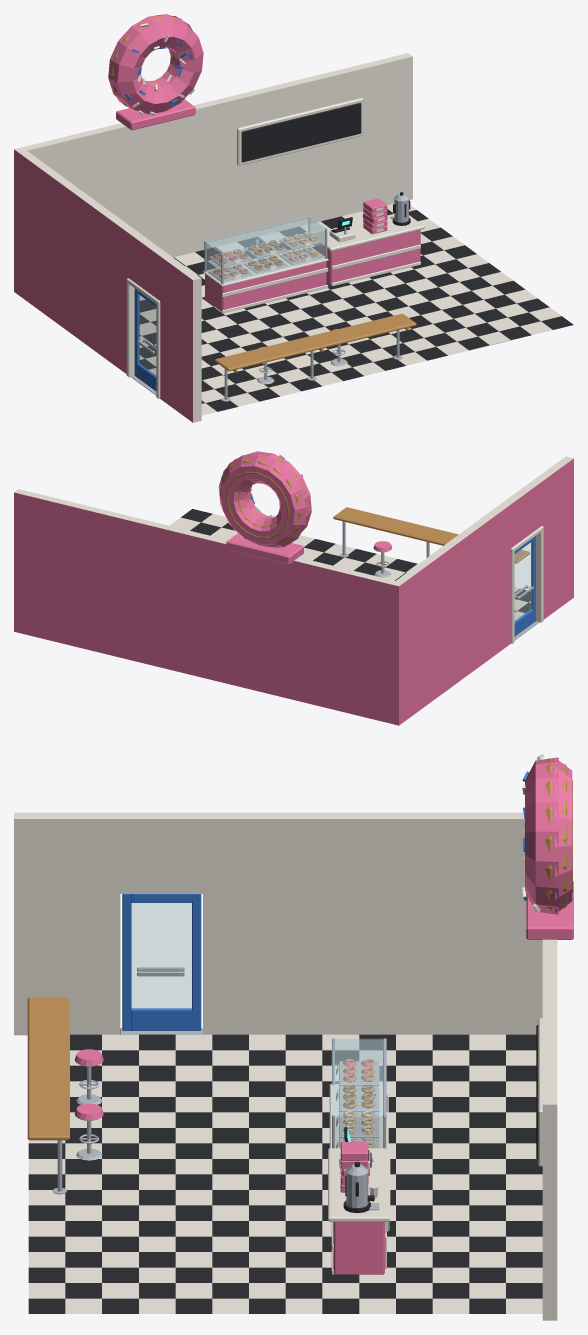
Rendered from low-poly-donut-shop.glb.
3 views of the same model, one above another, from view 1: azimuth 30°, elevation 25°; view 2: azimuth 150°, elevation 25°; view 3: azimuth 270°, elevation 25° (orthographic). The views are drawn at different scales.
Parts seen in each view (by area): view 1: Walls, Floor, Donut_Sign, Counter_Body, Case_Glass, Case_Body, WindowCounter_Top, Door, Donuts, Trays, CaseDoor_L, CaseDoor_R; view 2: Walls, Donut_Sign, Floor, WindowCounter_Top, Door, Stool_2_Mesh; view 3: Floor, Walls, Door, Donut_Sign, Counter_Body, WindowCounter_Top, Case_Glass, Trays, Donuts, Case_Body, Stool_2_Mesh, Stool_1_Mesh.
Boxes of the visible parts, x1,y1,x2,y2 form: Walls: [14, 53, 412, 422]; Floor: [131, 203, 573, 415]; Donut_Sign: [108, 14, 203, 130]; Counter_Body: [313, 192, 424, 286]; Case_Glass: [206, 217, 326, 283]; Case_Body: [203, 215, 328, 313]; WindowCounter_Top: [215, 313, 416, 401]; Door: [134, 288, 156, 391]; Donuts: [213, 232, 318, 278]; Trays: [208, 234, 322, 281]; CaseDoor_L: [207, 230, 259, 270]; CaseDoor_R: [257, 218, 307, 244]; Walls: [14, 456, 573, 725]; Donut_Sign: [218, 451, 311, 564]; Floor: [169, 509, 539, 640]; WindowCounter_Top: [333, 507, 530, 597]; Door: [514, 536, 535, 636]; Stool_2_Mesh: [373, 541, 391, 577]; Floor: [28, 1028, 542, 1313]; Walls: [14, 812, 557, 1320]; Door: [122, 894, 201, 1030]; Donut_Sign: [522, 754, 573, 939]; Counter_Body: [328, 1127, 390, 1274]; WindowCounter_Top: [27, 997, 69, 1194]; Case_Glass: [332, 1039, 382, 1147]; Trays: [336, 1061, 379, 1148]; Donuts: [343, 1058, 375, 1148]; Case_Body: [329, 1038, 388, 1148]; Stool_2_Mesh: [74, 1103, 103, 1160]; Stool_1_Mesh: [74, 1049, 103, 1104].
Bounding box in the file's own units: 37.8 × 22.1 × 30.5.
